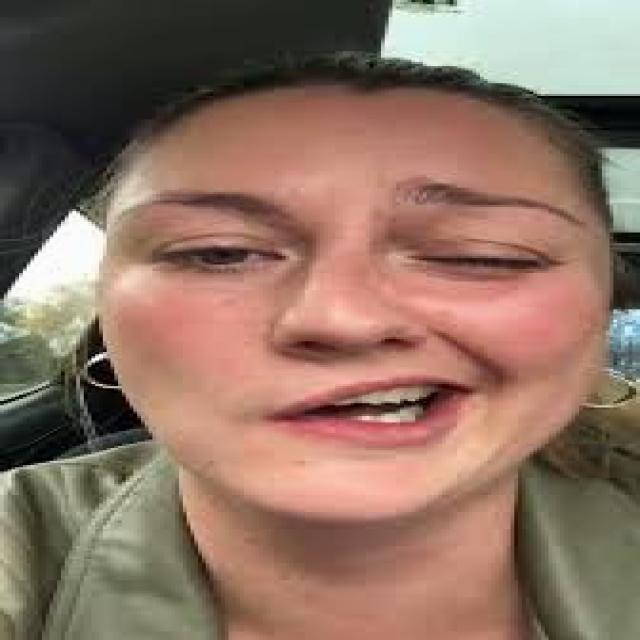stroke_face: (102, 81, 636, 539)
